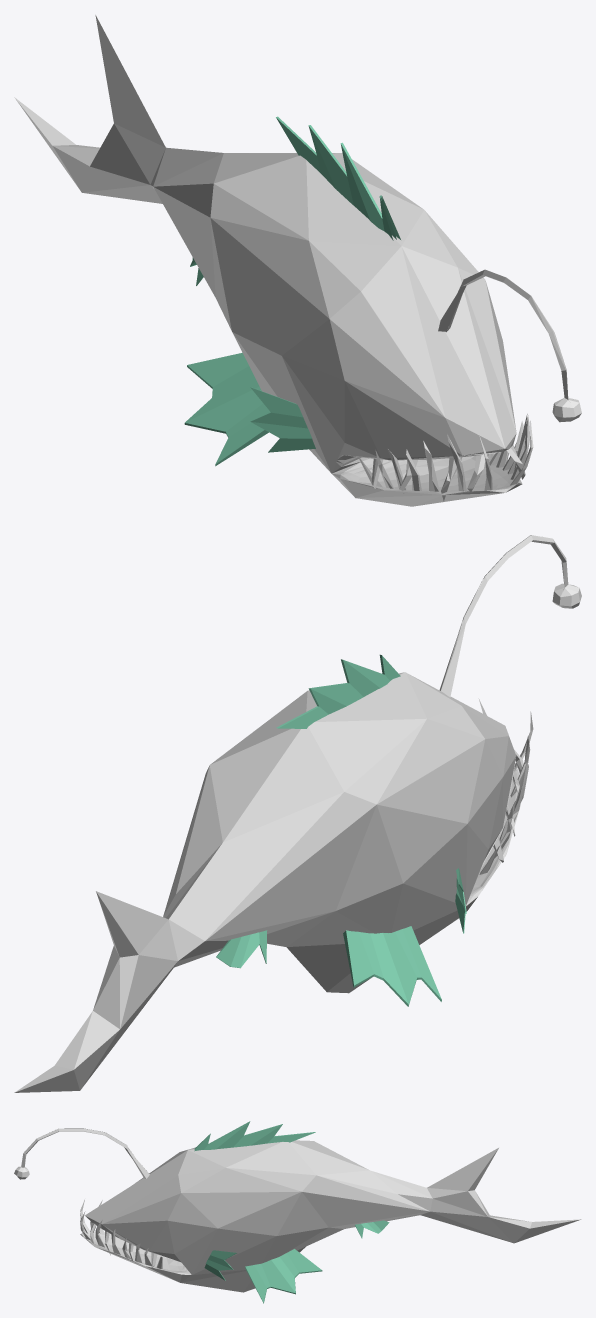
The model's file is fish02.fbx.
3 views of the same model, one above another, from view 1: azimuth 30°, elevation 25°; view 2: azimuth 150°, elevation 25°; view 3: azimuth 270°, elevation 25° (orthographic). The views are drawn at different scales.
Visible parts, largest first — view 1: fish02_lvl1, fish02_lvl2, fish02_lvl3; view 2: fish02_lvl1, fish02_lvl2, fish02_lvl3; view 3: fish02_lvl1, fish02_lvl2, fish02_lvl3.
Part boxes in pixels (box(x1,y1,x2,y2)): fish02_lvl1: box(14, 15, 522, 506); fish02_lvl2: box(184, 116, 400, 466); fish02_lvl3: box(359, 269, 581, 501); fish02_lvl1: box(14, 672, 520, 1092); fish02_lvl2: box(216, 654, 466, 1006); fish02_lvl3: box(439, 535, 581, 874); fish02_lvl1: box(80, 1140, 581, 1292); fish02_lvl2: box(194, 1121, 389, 1303); fish02_lvl3: box(14, 1128, 162, 1268).
Size of the model in its own units: 362 by 517 by 1553.
